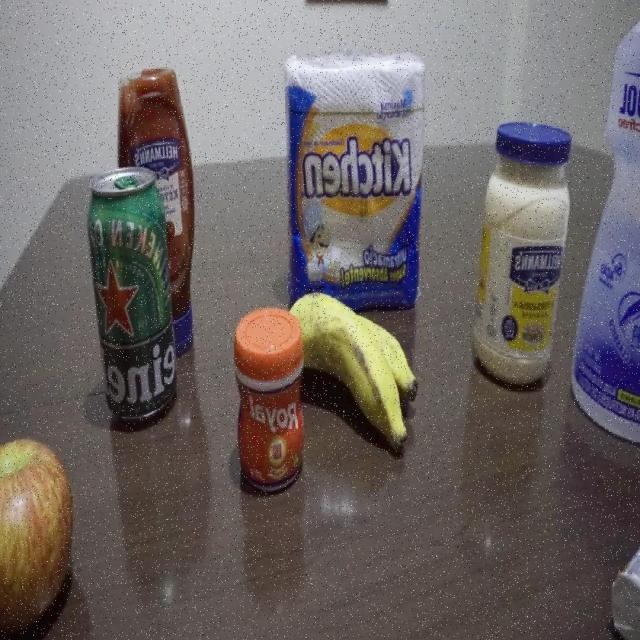AlcoholBottle: (569, 18, 640, 452)
Apple: (0, 432, 73, 630)
Banana: (305, 299, 418, 456)
BeerCan: (88, 172, 173, 422)
Ketchup: (114, 61, 191, 163)
Mayonnaise: (472, 122, 570, 388)
Napkin: (289, 47, 426, 290)
Yeast: (235, 308, 303, 493)
